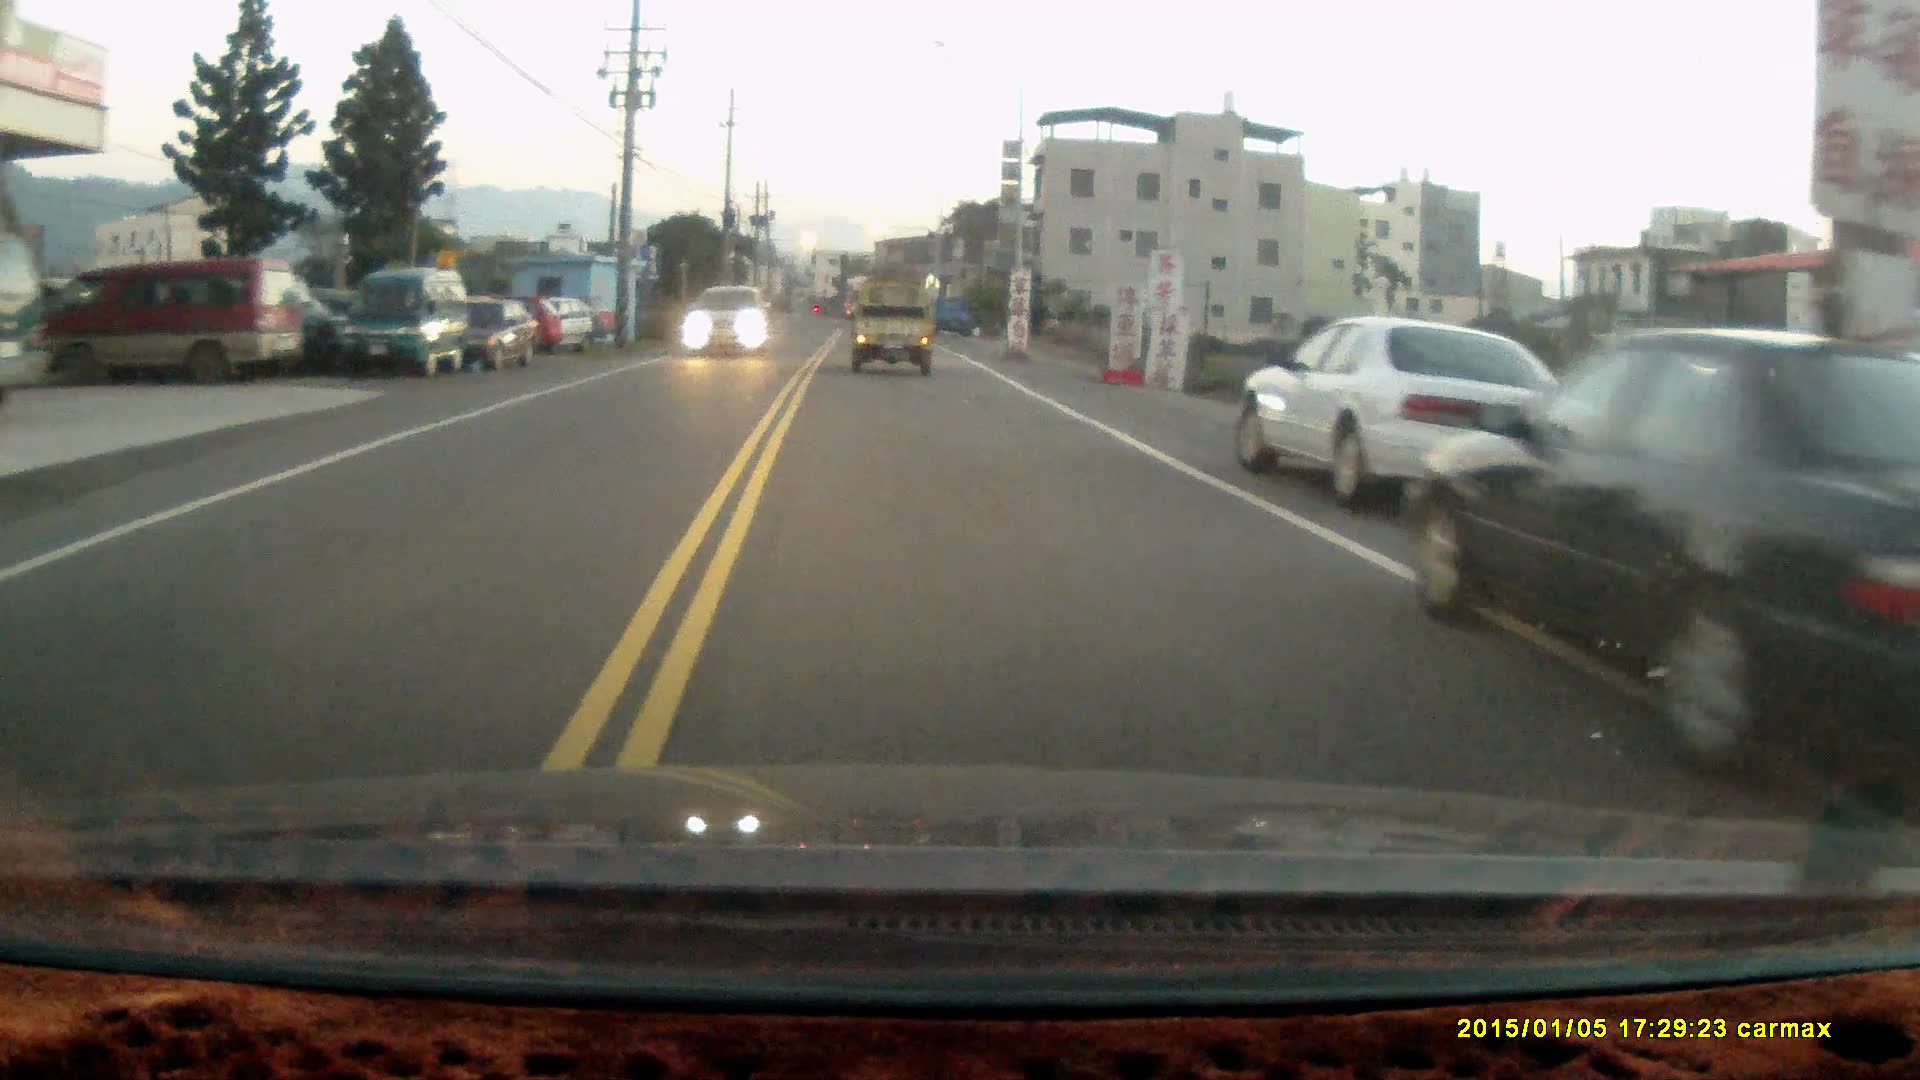vehicle: (1414, 322, 1913, 810), (1234, 316, 1575, 508), (22, 257, 291, 382), (338, 266, 472, 378), (853, 281, 936, 372), (682, 282, 774, 356), (465, 295, 541, 377)
